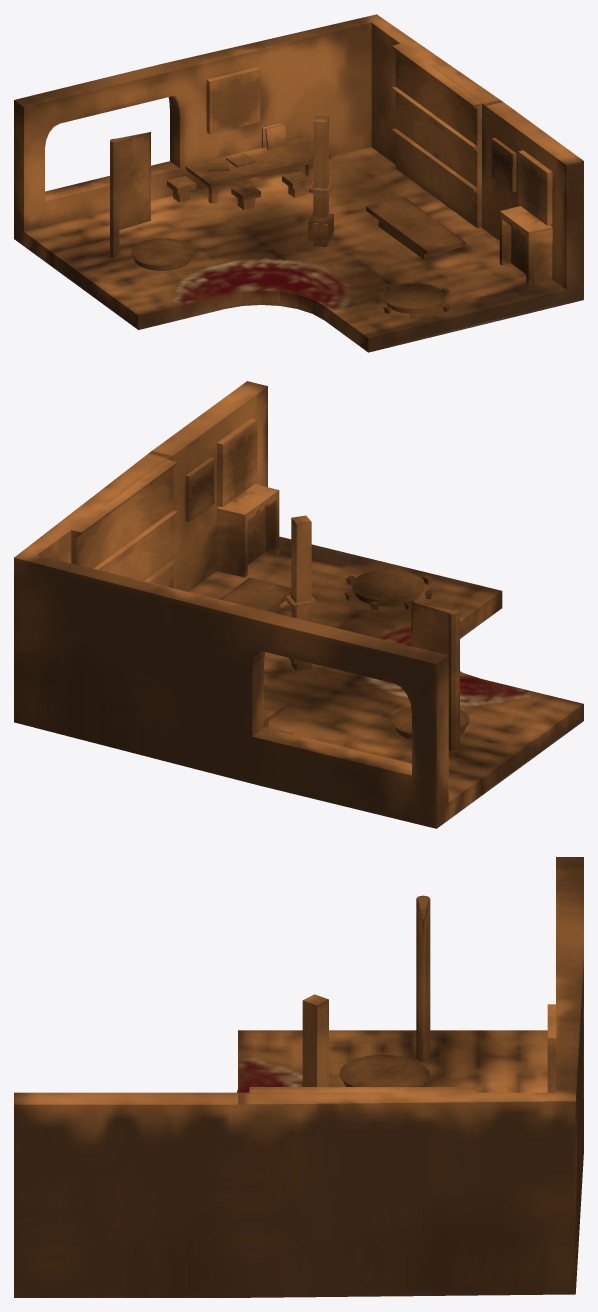
Rendered from lounge_ops_all_export_0001.glb.
3 renders of one model, top to bottom at view 1: azimuth 30°, elevation 25°; view 2: azimuth 150°, elevation 25°; view 3: azimuth 270°, elevation 25°, orthographic. The views are drawn at different scales.
Parts seen in each view (by area): view 1: Floor, Walls, Cube.015, Cylinder, Cube.016, Cube.017, Cube.035, Cube.007, Cube.013, Cube.033, Cube.003, Cube.008 (+7 smaller); view 2: Walls, Floor, Cube.015, Cube.035, Cylinder, Cube.008, Cube.016, Cube.003, Circle.001, Cube.007, Cube.034, Cube.001; view 3: Walls, Floor, Cylinder, Cube.001, Cube.003, Cube.015, Cube.033.
Boxes of the visible parts, bbox=[...] form: Floor: bbox=[24, 147, 566, 352]; Walls: bbox=[14, 14, 583, 303]; Cube.015: bbox=[391, 43, 481, 146]; Cylinder: bbox=[110, 132, 150, 258]; Cube.016: bbox=[391, 86, 481, 187]; Cube.017: bbox=[391, 128, 481, 228]; Cube.035: bbox=[499, 206, 552, 285]; Cube.007: bbox=[366, 197, 465, 259]; Cube.013: bbox=[185, 137, 330, 203]; Cube.033: bbox=[206, 67, 260, 134]; Cube.003: bbox=[308, 116, 333, 246]; Cube.008: bbox=[518, 150, 552, 225]; Walls: bbox=[14, 381, 448, 828]; Floor: bbox=[188, 536, 583, 819]; Cube.015: bbox=[71, 459, 177, 568]; Cube.035: bbox=[216, 484, 279, 577]; Cylinder: bbox=[411, 602, 459, 751]; Cube.008: bbox=[216, 418, 257, 506]; Cube.016: bbox=[93, 510, 177, 580]; Cube.003: bbox=[286, 515, 316, 671]; Circle.001: bbox=[351, 569, 424, 606]; Cube.007: bbox=[220, 577, 291, 613]; Cube.034: bbox=[185, 457, 214, 521]; Cube.001: bbox=[391, 707, 469, 739]; Walls: bbox=[14, 857, 583, 1297]; Floor: bbox=[237, 1030, 547, 1092]; Cylinder: bbox=[416, 895, 430, 1062]; Cube.001: bbox=[339, 1055, 429, 1086]; Cube.003: bbox=[302, 994, 328, 1086]; Cube.015: bbox=[249, 1087, 475, 1092]; Cube.033: bbox=[547, 1004, 555, 1092].
Bounding box in the file's own units: 84.65 × 30.82 × 82.36.
1 material, 1 textured.
